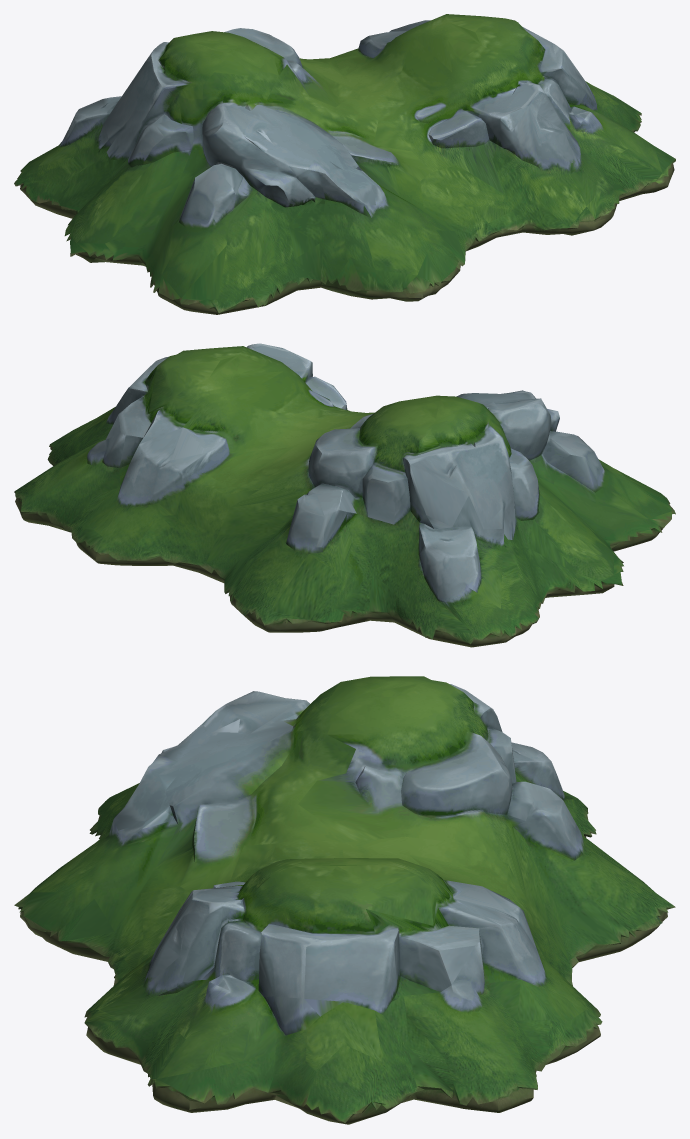
The picture shows the model from 3 angles, top to bottom: view 1: azimuth 30°, elevation 25°; view 2: azimuth 150°, elevation 25°; view 3: azimuth 270°, elevation 25°; orthographic projection. The views are drawn at different scales.
Visible parts, largest first — view 1: mountain_foothill; view 2: mountain_foothill; view 3: mountain_foothill.
Part boxes in pixels (x1=…): mountain_foothill: x1=14, y1=14, x2=675, y2=314; mountain_foothill: x1=14, y1=343, x2=675, y2=647; mountain_foothill: x1=14, y1=676, x2=675, y2=1124.
Bounding box in the file's own units: 0.9802 × 0.2701 × 0.7913.
Materials: 1 (1 with a texture image).
